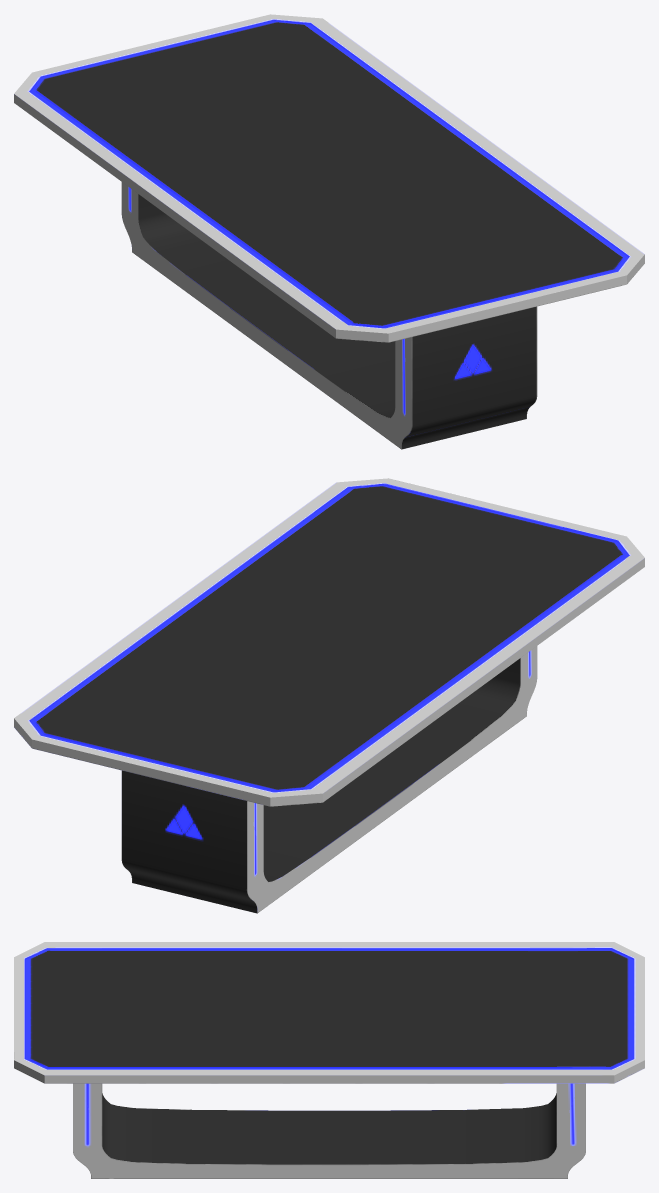
The model's file is table.fbx.
3 renders of one model, top to bottom at view 1: azimuth 30°, elevation 25°; view 2: azimuth 150°, elevation 25°; view 3: azimuth 270°, elevation 25°, orthographic. The views are drawn at different scales.
Parts seen in each view (by area): view 1: Table; view 2: Table; view 3: Table.
Part boxes in pixels (bbox=[...]): Table: bbox=[14, 14, 644, 449]; Table: bbox=[14, 478, 644, 913]; Table: bbox=[14, 942, 644, 1178].
Size of what is drawn, in the model's own units: 150 by 75 by 300.
